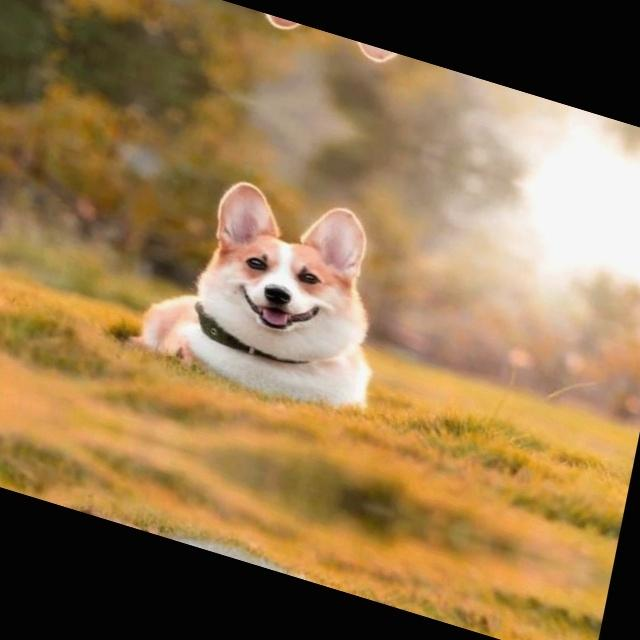dog: (36, 104, 466, 446), (4, 472, 392, 606), (101, 0, 493, 118)
